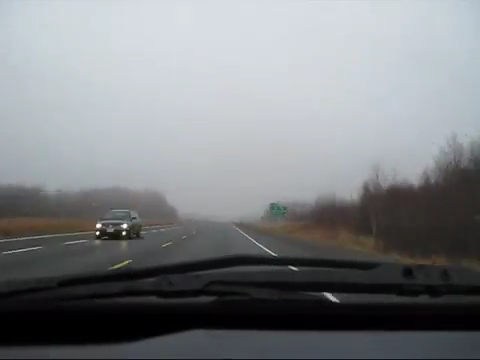car: (92, 206, 143, 240)
